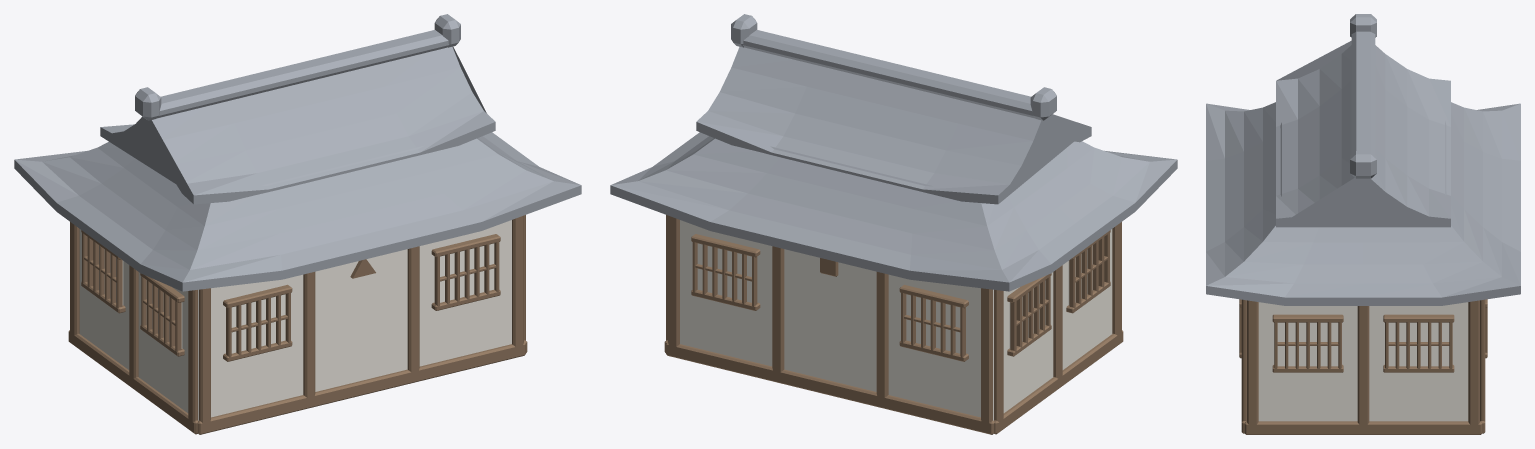
File: feudal-japan-castle-town-turret-single-storey-f3646978__26572.glb
3 views of the same model, side by side, from view 1: azimuth 30°, elevation 25°; view 2: azimuth 150°, elevation 25°; view 3: azimuth 270°, elevation 25° (orthographic). The views are drawn at different scales.
Parts seen in each view (by area): view 1: turret-single-storey; view 2: turret-single-storey; view 3: turret-single-storey.
Boxes of the visible parts, left/top/right/bottom form: turret-single-storey: left=14, top=14, right=581, bottom=434; turret-single-storey: left=610, top=14, right=1177, bottom=434; turret-single-storey: left=1206, top=14, right=1520, bottom=434.
Size of the model in its own units: 7.4 by 5.21 by 5.4.
